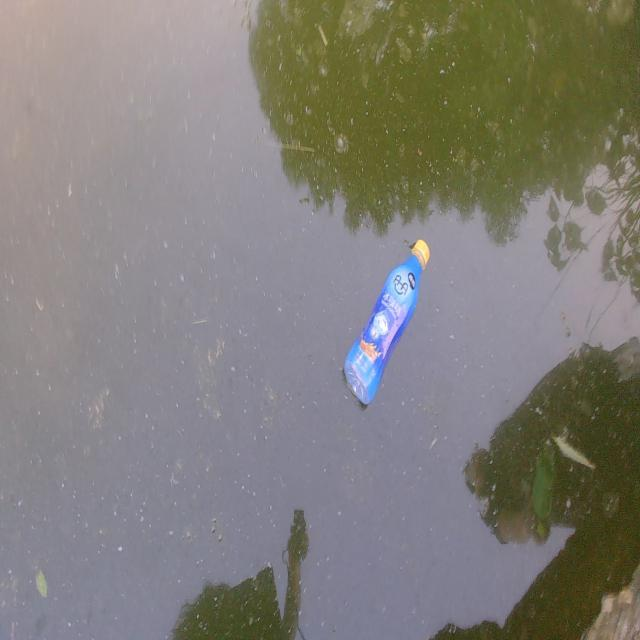bottle: (338, 215, 436, 421)
